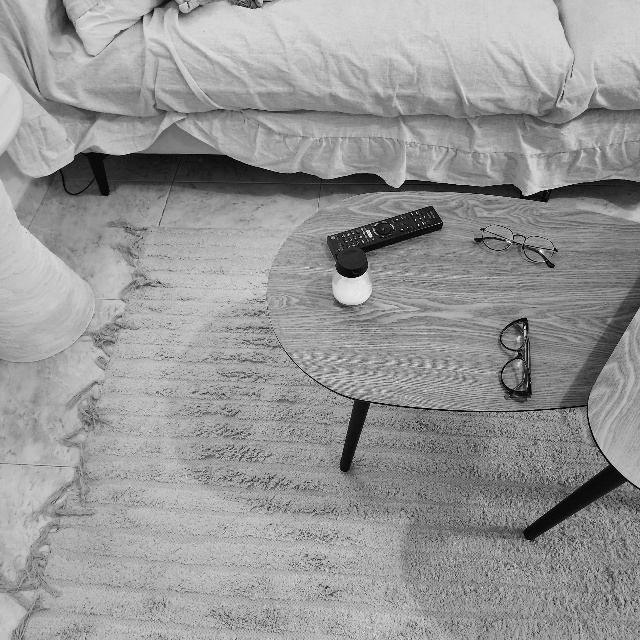glasses: (473, 223, 560, 268), (496, 317, 538, 404)
